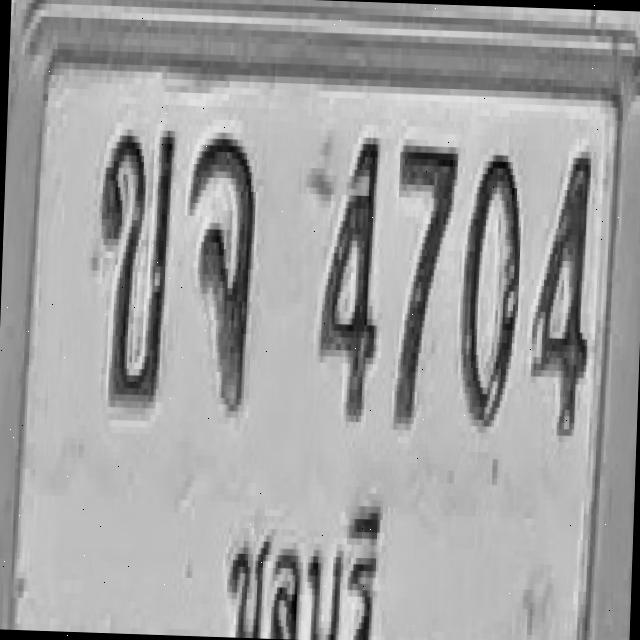0: (456, 147, 523, 427)
11KhorKhai: (92, 122, 176, 408)
17ChorChan: (182, 131, 258, 411)
4: (315, 129, 383, 422), (528, 143, 593, 436)
7: (391, 138, 458, 424)
Chonburi: (215, 483, 386, 640)
